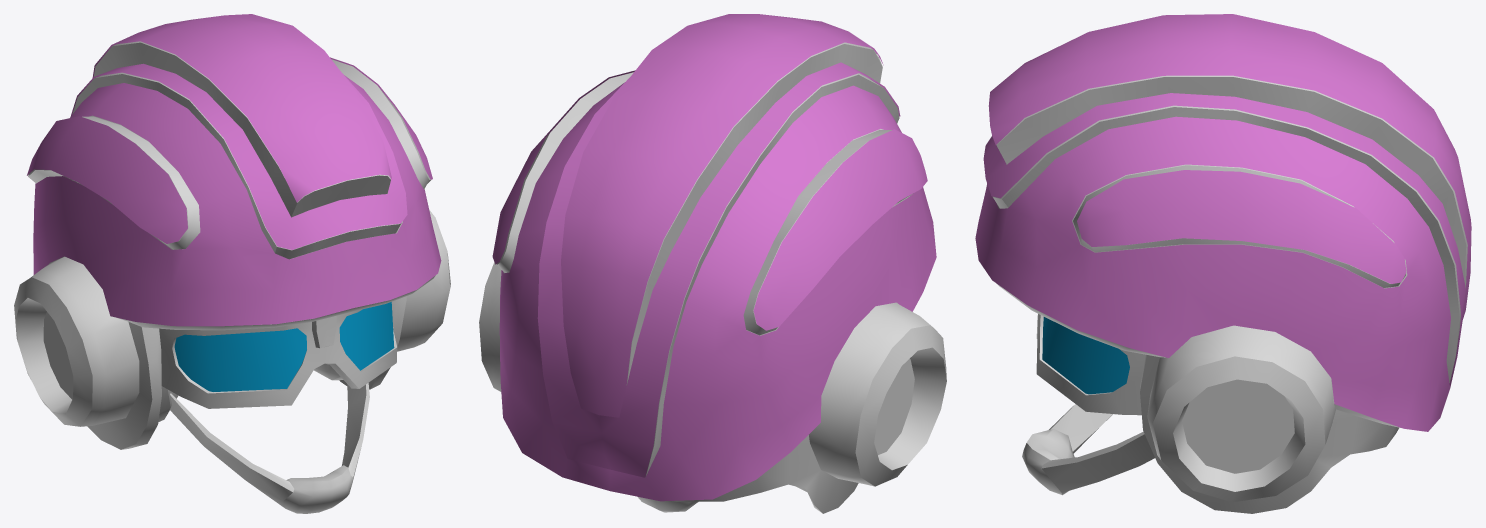
File: kid_from_space_helmet.fbx
3 renders of one model, left to right at view 1: azimuth 30°, elevation 25°; view 2: azimuth 150°, elevation 25°; view 3: azimuth 270°, elevation 25°, orthographic. The views are drawn at different scales.
Visible parts, largest first — view 1: kid_from_space_helmet.001; view 2: kid_from_space_helmet.001; view 3: kid_from_space_helmet.001.
Part boxes in pixels (left/top/right/bottom): kid_from_space_helmet.001: left=14, top=14, right=450, bottom=513; kid_from_space_helmet.001: left=479, top=14, right=946, bottom=513; kid_from_space_helmet.001: left=975, top=14, right=1471, bottom=513.
Size of the model in its own units: 39.94 by 42.29 by 41.67.
